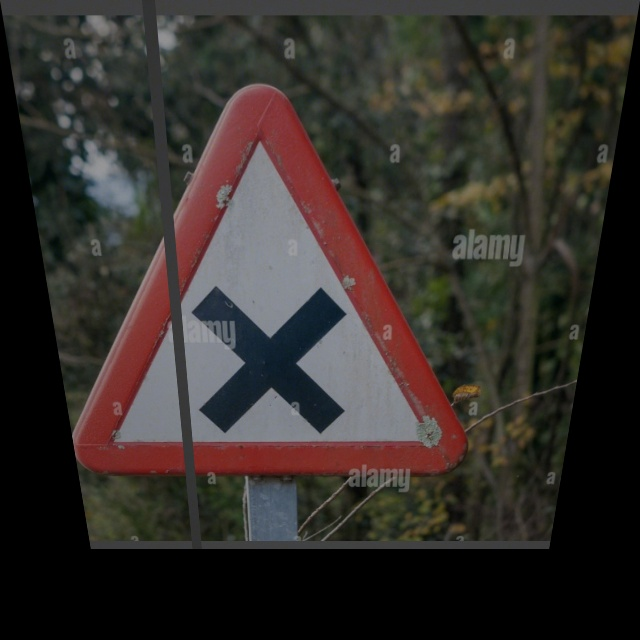Cross_Road: (31, 93, 496, 471)
